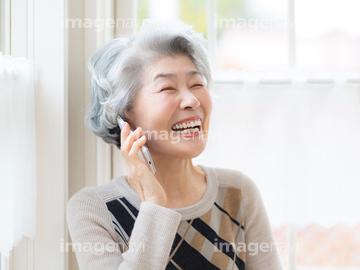phone: (113, 115, 161, 179)
talk: (114, 66, 215, 204)
